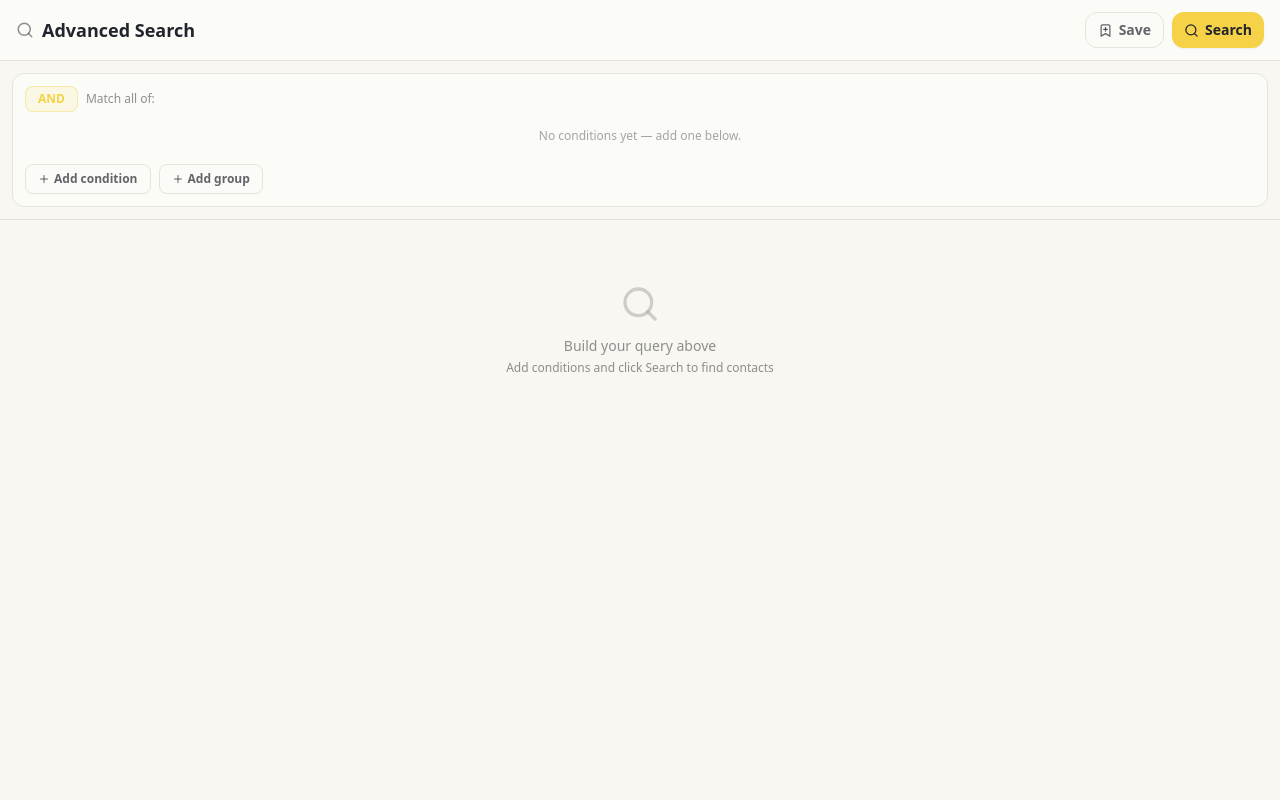
it: AdvancedSearchPage — controls › displays results after a successful search
The width and height of the screenshot is (1280, 800).
Click the button "Search" at (1218, 30), box [1172, 12, 1264, 48]
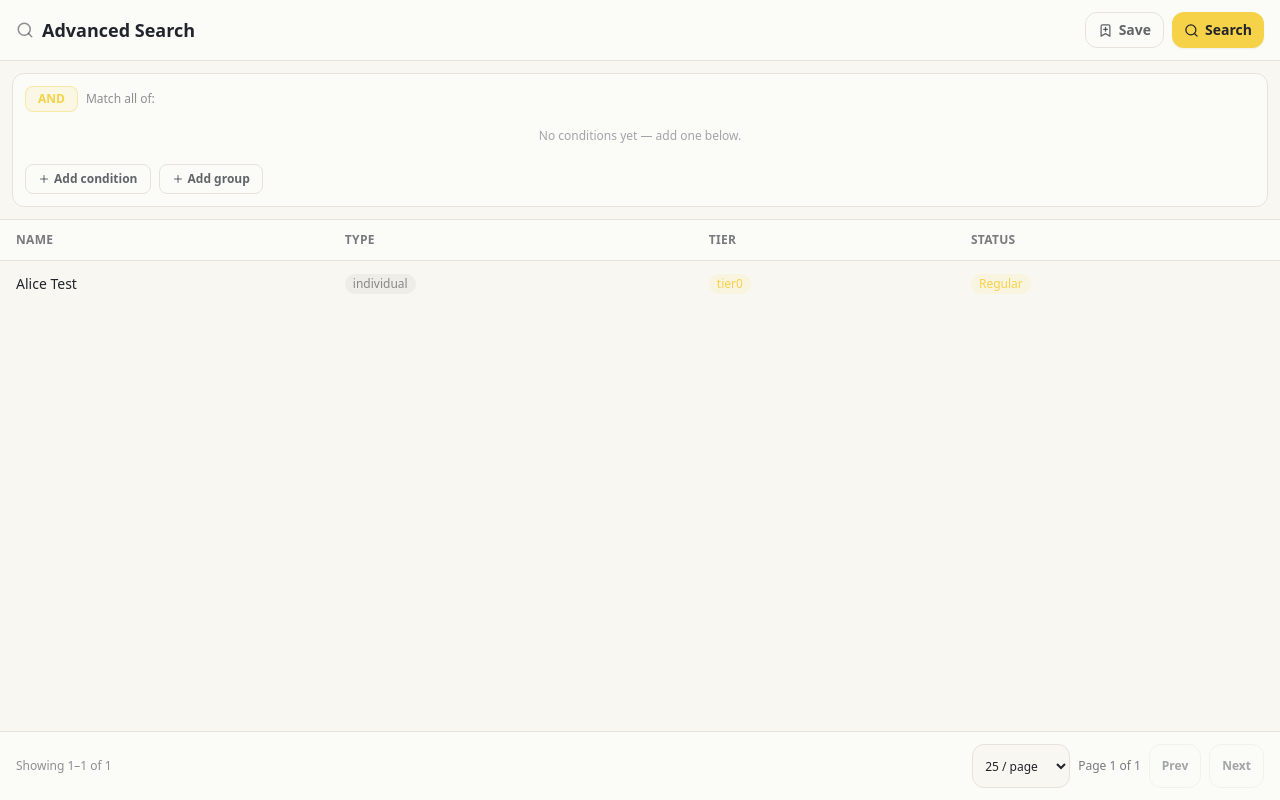
Check: the text "Alice Test" is shown, box [16, 274, 77, 292]
